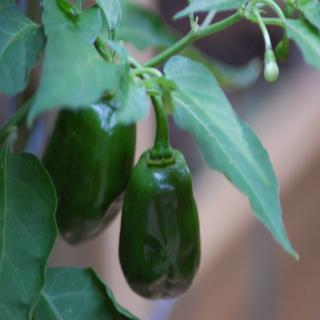Bell pepper: (118, 54, 202, 302), (40, 107, 134, 247)
